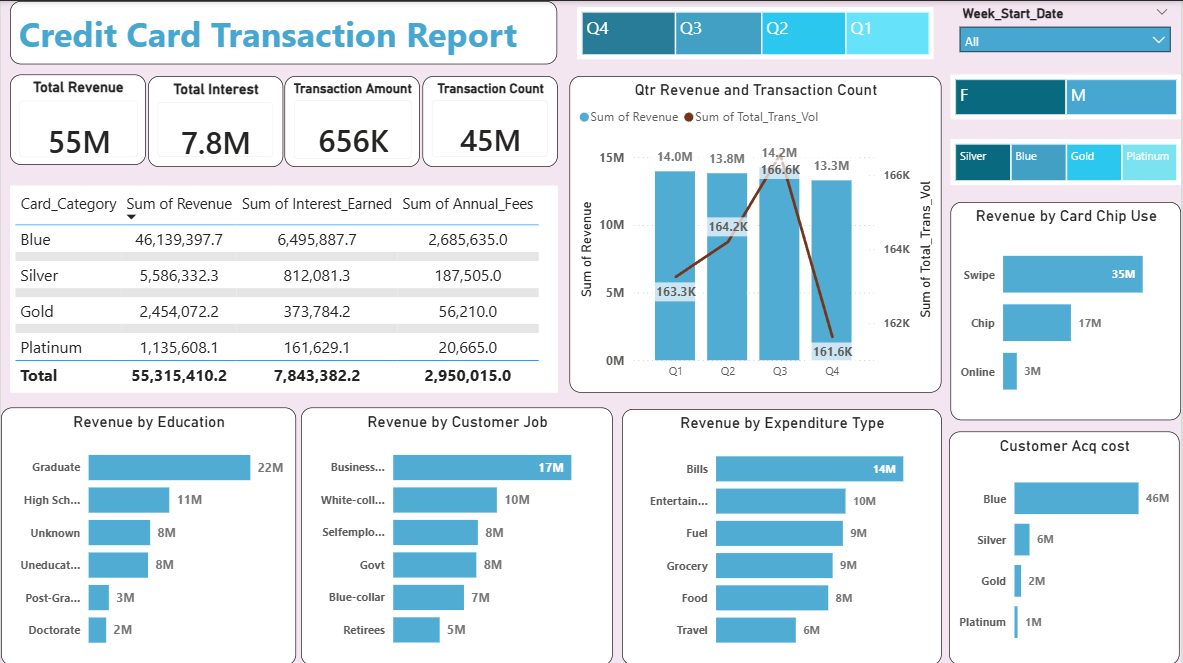

The page's visual inventory and layout, read from the dashboard file:
{"tool":"powerbi","page":{"name":"CC Transaction","canvas":[1280,720],"ordinal":0},"visuals":[{"type":"textbox","box":[10,0,593.3,68.3],"z":0},{"type":"lineStackedColumnComboChart","title":"Qtr Revenue and Transaction Count","fields":{"Category":["credit_card.Qtr"],"Y":["Sum(credit_card.Revenue)"],"Y2":["Sum(credit_card.Total_Trans_Vol)"]},"box":[616.5,81.3,403.4,343.2],"z":1000},{"type":"barChart","title":"Revenue by Expenditure Type","fields":{"Y":["Sum(credit_card.Revenue)"],"Category":["credit_card.Exp Type"]},"box":[673.4,442.4,346.5,278.1],"z":2000},{"type":"barChart","title":"Revenue by Education","fields":{"Y":["Sum(credit_card.Revenue)"],"Category":["customer.Education_Level"]},"box":[0,440,320,280],"z":3000},{"type":"barChart","title":"Revenue by Customer Job","fields":{"Y":["Sum(credit_card.Revenue)"],"Category":["customer.Customer_Job"]},"box":[325.3,440.8,338.3,279.8],"z":4000},{"type":"barChart","title":"Customer Acq cost","fields":{"Y":["Sum(credit_card.Revenue)"],"Category":["credit_card.Card_Category"]},"box":[1028.3,466.7,250,253.3],"z":5000},{"type":"barChart","title":"Revenue by Card Chip Use","fields":{"Y":["Sum(credit_card.Revenue)"],"Category":["credit_card.Use Chip"]},"box":[1030,218.3,250,236.7],"z":6000},{"type":"cardVisual","title":"Total Revenue","fields":{"Data":["Sum(credit_card.Revenue)"]},"box":[9.8,80.1,147,98],"z":8000},{"type":"cardVisual","title":"Total Interest","fields":{"Data":["Sum(credit_card.Interest_Earned)"]},"box":[160,81.7,146.7,98.3],"z":9000},{"type":"cardVisual","title":"Transaction Amount","fields":{"Data":["Sum(credit_card.Total_Trans_Vol)"]},"box":[306.7,81.7,146.7,98.3],"z":10000},{"type":"cardVisual","title":"Transaction Count","fields":{"Data":["Sum(credit_card.Total_Trans_Amt)"]},"box":[456.7,81.7,146.7,98.3],"z":11000},{"type":"slicer","fields":{"Values":["credit_card.Week_Start_Date"]},"box":[1030,0,248.3,68.3],"z":12000},{"type":"treemap","fields":{"Group":["credit_card.Qtr"],"Values":["Avg(credit_card.Client_Num)"]},"box":[625,6.7,386.7,56.7],"z":13000},{"type":"treemap","fields":{"Group":["customer.Gender"],"Values":["Avg(credit_card.Client_Num)"]},"box":[1030,80,250,48.3],"z":14000},{"type":"treemap","fields":{"Group":["credit_card.Card_Category"],"Values":["Avg(credit_card.Client_Num)"]},"box":[1030,150,250,50],"z":15000},{"type":"tableEx","fields":{"Values":["credit_card.Card_Category","Sum(credit_card.Revenue)","Sum(credit_card.Interest_Earned)","Sum(credit_card.Annual_Fees)"]},"box":[9.8,200.1,593.7,224.5],"z":15001}]}

Visuals, with their boxes in screenshot pixels (x1, y1, x2, y2), scaled from the page's 1280x720 canvas onto the 1183x663 screenshot:
textbox: 9 0 558 63
"Qtr Revenue and Transaction Count" lineStackedColumnComboChart: 570 75 943 391
"Revenue by Expenditure Type" barChart: 622 407 943 662
"Revenue by Education" barChart: 0 405 296 662
"Revenue by Customer Job" barChart: 301 406 613 662
"Customer Acq cost" barChart: 950 430 1181 662
"Revenue by Card Chip Use" barChart: 952 201 1182 419
"Total Revenue" cardVisual: 9 74 145 164
"Total Interest" cardVisual: 148 75 283 166
"Transaction Amount" cardVisual: 283 75 419 166
"Transaction Count" cardVisual: 422 75 558 166
slicer - credit_card.Week_Start_Date: 952 0 1181 63
treemap - credit_card.Qtr x Avg(credit_card.Client_Num): 578 6 935 58
treemap - customer.Gender x Avg(credit_card.Client_Num): 952 74 1182 118
treemap - credit_card.Card_Category x Avg(credit_card.Client_Num): 952 138 1182 184
tableEx - credit_card.Card_Category x Sum(credit_card.Revenue): 9 184 558 391
